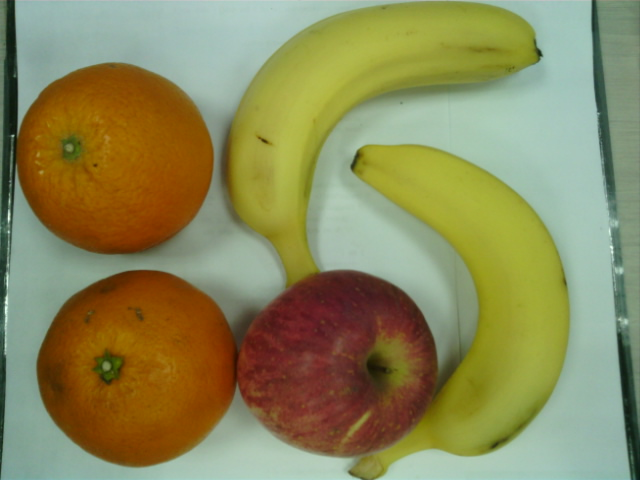normal_apple: (237, 270, 440, 457)
normal_banana: (226, 3, 543, 285), (351, 143, 571, 480)
normal_orange: (37, 271, 235, 467), (16, 63, 214, 257)
